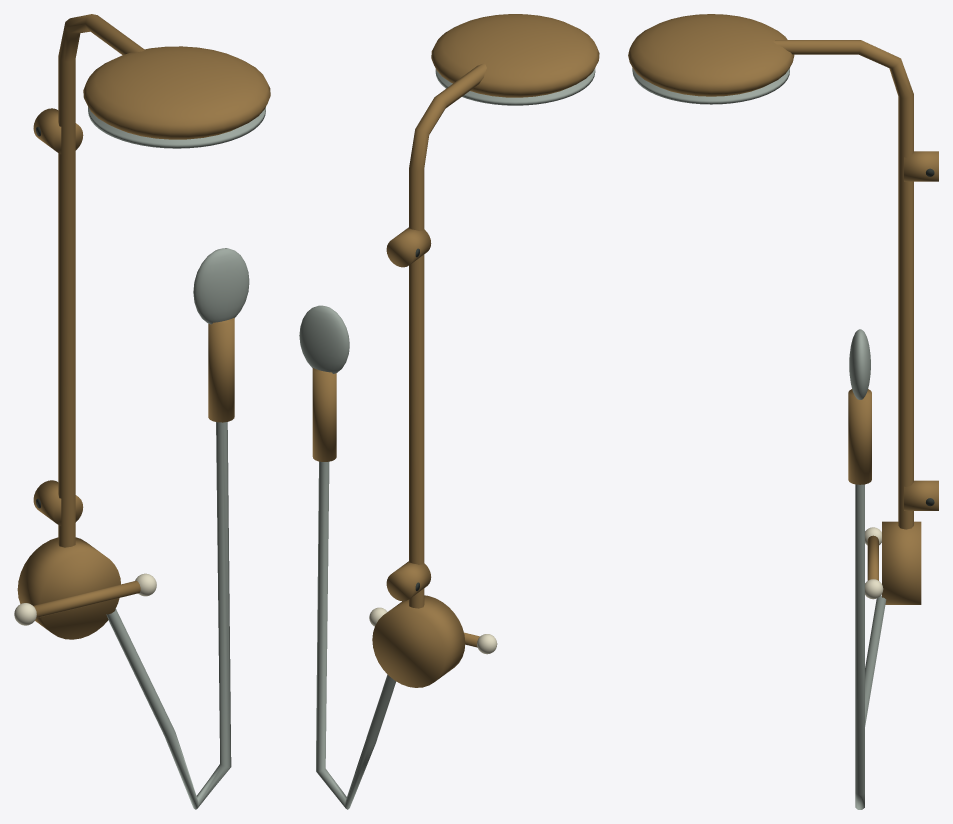
File: shower.glb
The picture shows the model from 3 angles, left to right: view 1: azimuth 30°, elevation 25°; view 2: azimuth 150°, elevation 25°; view 3: azimuth 270°, elevation 25°; orthographic projection. The views are drawn at different scales.
Parts seen in each view (by area): view 1: shower__Aged_brass, shower__Tarnished_nickel, shower__Ivory_porcelain; view 2: shower__Aged_brass, shower__Tarnished_nickel, shower__Ivory_porcelain; view 3: shower__Aged_brass, shower__Tarnished_nickel.
Part boxes in pixels (x1,y1,x2,y2): shower__Aged_brass: [17, 14, 270, 639]; shower__Tarnished_nickel: [88, 106, 265, 809]; shower__Ivory_porcelain: [14, 573, 156, 625]; shower__Aged_brass: [312, 14, 599, 687]; shower__Tarnished_nickel: [299, 68, 595, 809]; shower__Ivory_porcelain: [369, 607, 497, 654]; shower__Aged_brass: [628, 14, 938, 604]; shower__Tarnished_nickel: [632, 68, 886, 809].
Bounding box in the file's own units: 0.554 × 1.85 × 0.71.
